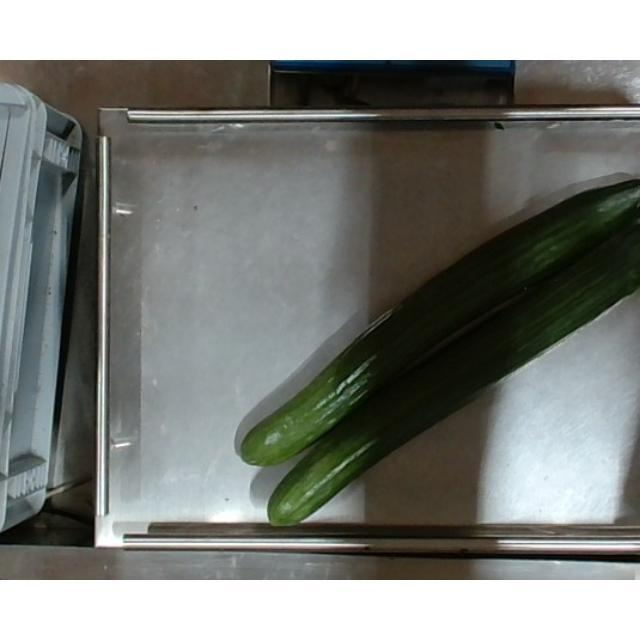cucumber: (266, 217, 640, 533), (240, 178, 640, 470)
